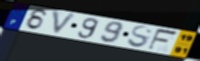6: (24, 8, 48, 31)
9: (99, 22, 125, 44), (77, 18, 99, 40)
F: (146, 28, 180, 52)
S: (126, 25, 154, 49)
V: (51, 9, 78, 37)
